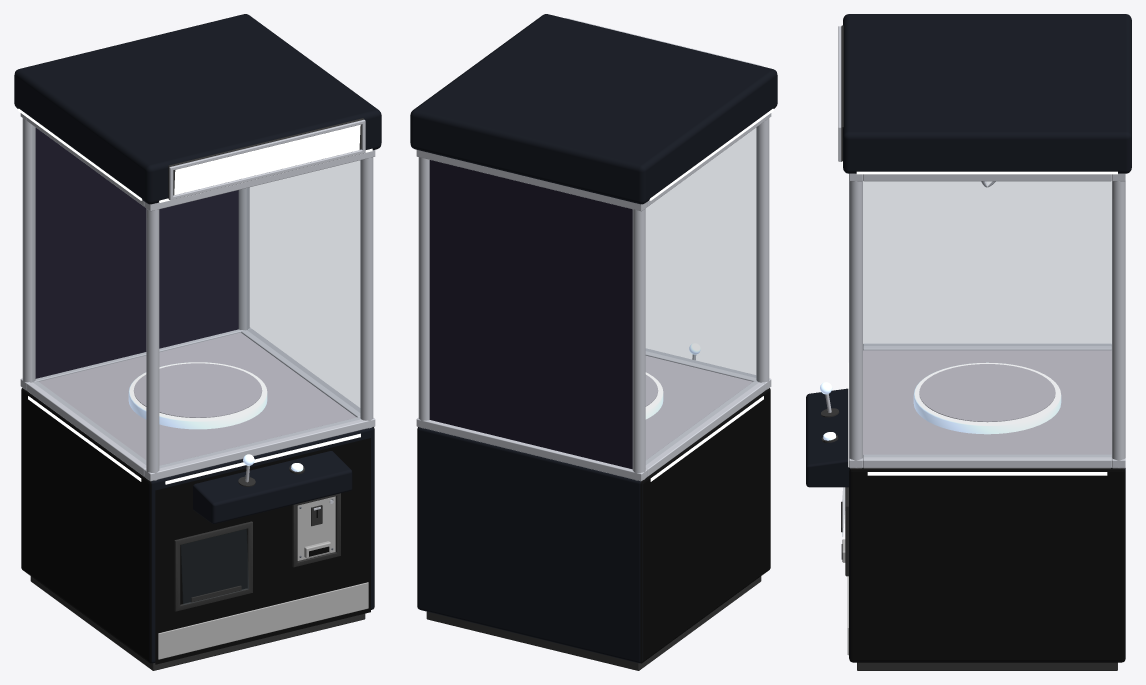
Rendered from claw.glb.
The picture shows the model from 3 angles, left to right: view 1: azimuth 30°, elevation 25°; view 2: azimuth 150°, elevation 25°; view 3: azimuth 270°, elevation 25°; orthographic projection. The views are drawn at different scales.
Visible parts, largest first — view 1: body, back, chrome, glass, side_art_l, front_art, floor, disc, chute, marquee, coin, led; view 2: body, back, side_art_l, glass, chrome, floor, led, disc; view 3: side_art_r, body, glass, floor, chrome, disc, led.
Part boxes in pixels (x1,y1,x2,y2): body: [14, 14, 381, 670]; back: [35, 128, 238, 378]; chrome: [20, 113, 375, 659]; glass: [181, 161, 360, 604]; side_art_l: [21, 388, 151, 663]; front_art: [155, 438, 370, 664]; floor: [39, 332, 356, 465]; disc: [128, 362, 267, 429]; chute: [174, 521, 252, 611]; marquee: [174, 124, 360, 195]; coin: [292, 493, 340, 567]; led: [18, 108, 372, 484]; body: [410, 14, 777, 670]; back: [429, 160, 632, 469]; side_art_l: [640, 388, 770, 663]; glass: [646, 128, 756, 377]; chrome: [416, 18, 771, 481]; floor: [645, 355, 752, 459]; led: [649, 108, 773, 481]; disc: [645, 372, 663, 419]; side_art_r: [849, 468, 1125, 662]; body: [806, 14, 1131, 670]; glass: [842, 181, 1111, 536]; floor: [863, 350, 1111, 454]; chrome: [838, 26, 1125, 655]; disc: [913, 362, 1061, 434]; led: [842, 161, 1117, 475].
Bounding box in the file's own units: 0.9461 × 1.95 × 1.06.
